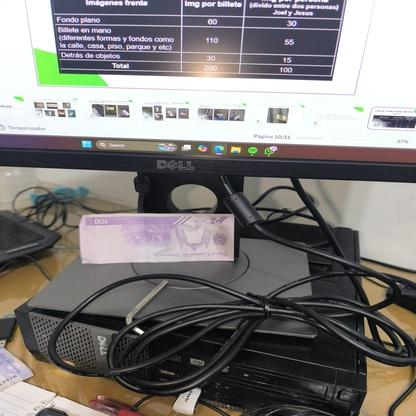one_hundred-back-vef: (78, 214, 235, 265)
